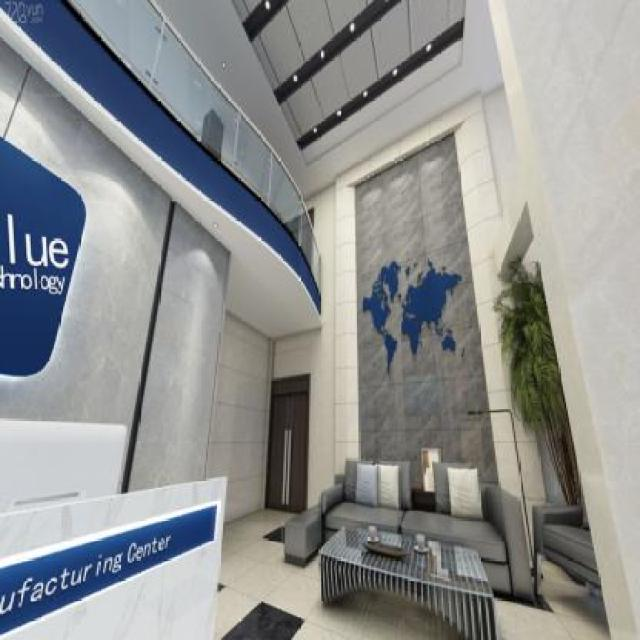frontdesk: (0, 398, 243, 640)
